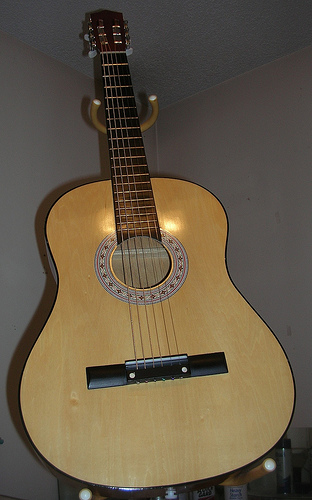guitar: (7, 8, 298, 491)
